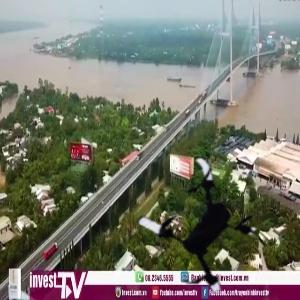drone: (126, 155, 267, 296)
